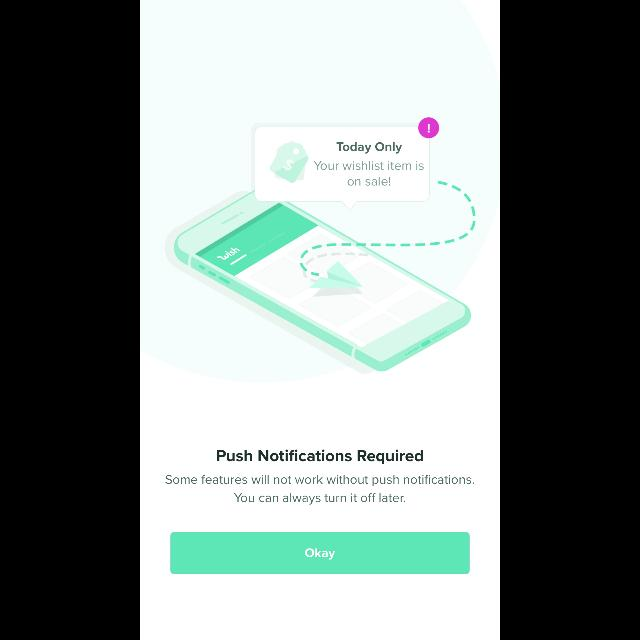image: (164, 117, 476, 375)
text: (166, 475, 474, 505), (217, 450, 423, 464)
textbutton: (170, 532, 470, 574)
